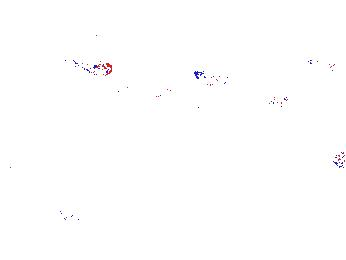X-ray fish: (52, 200, 96, 223)
glassfish: (91, 82, 193, 133), (143, 78, 222, 139)
red belly glassfish: (268, 92, 319, 110), (73, 58, 113, 77), (281, 74, 312, 85)
redtail glassfish: (193, 68, 229, 92), (305, 54, 346, 74)
